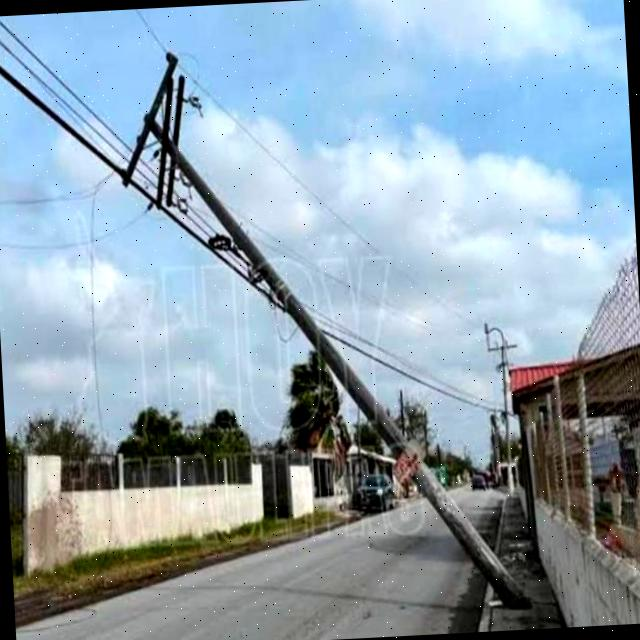Broken Pole: (115, 45, 531, 611)
